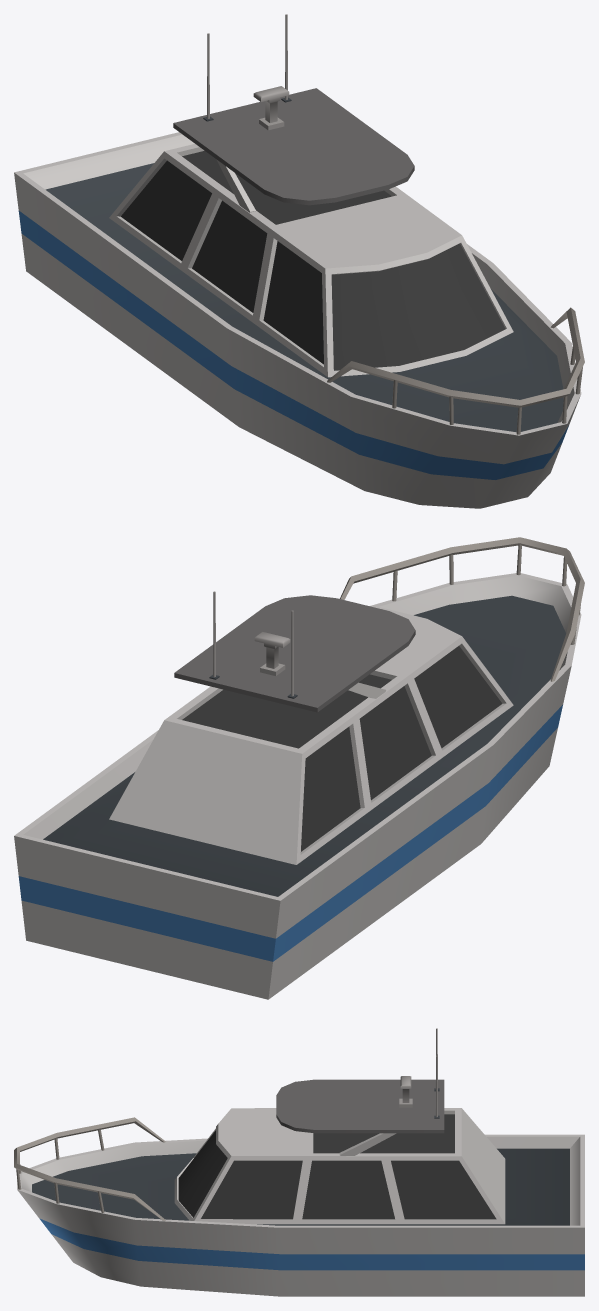
Rendered from Yacht_1.fbx.
3 views of the same model, one above another, from view 1: azimuth 30°, elevation 25°; view 2: azimuth 150°, elevation 25°; view 3: azimuth 270°, elevation 25° (orthographic). The views are drawn at different scales.
Visible parts, largest first — view 1: Yacht_1; view 2: Yacht_1; view 3: Yacht_1.
Boxes of the visible parts, x1,y1,x2,y2 form: Yacht_1: [14, 14, 584, 508]; Yacht_1: [14, 537, 584, 999]; Yacht_1: [14, 1028, 584, 1296].
Bounding box in the file's own units: 655 × 691 × 1695.
